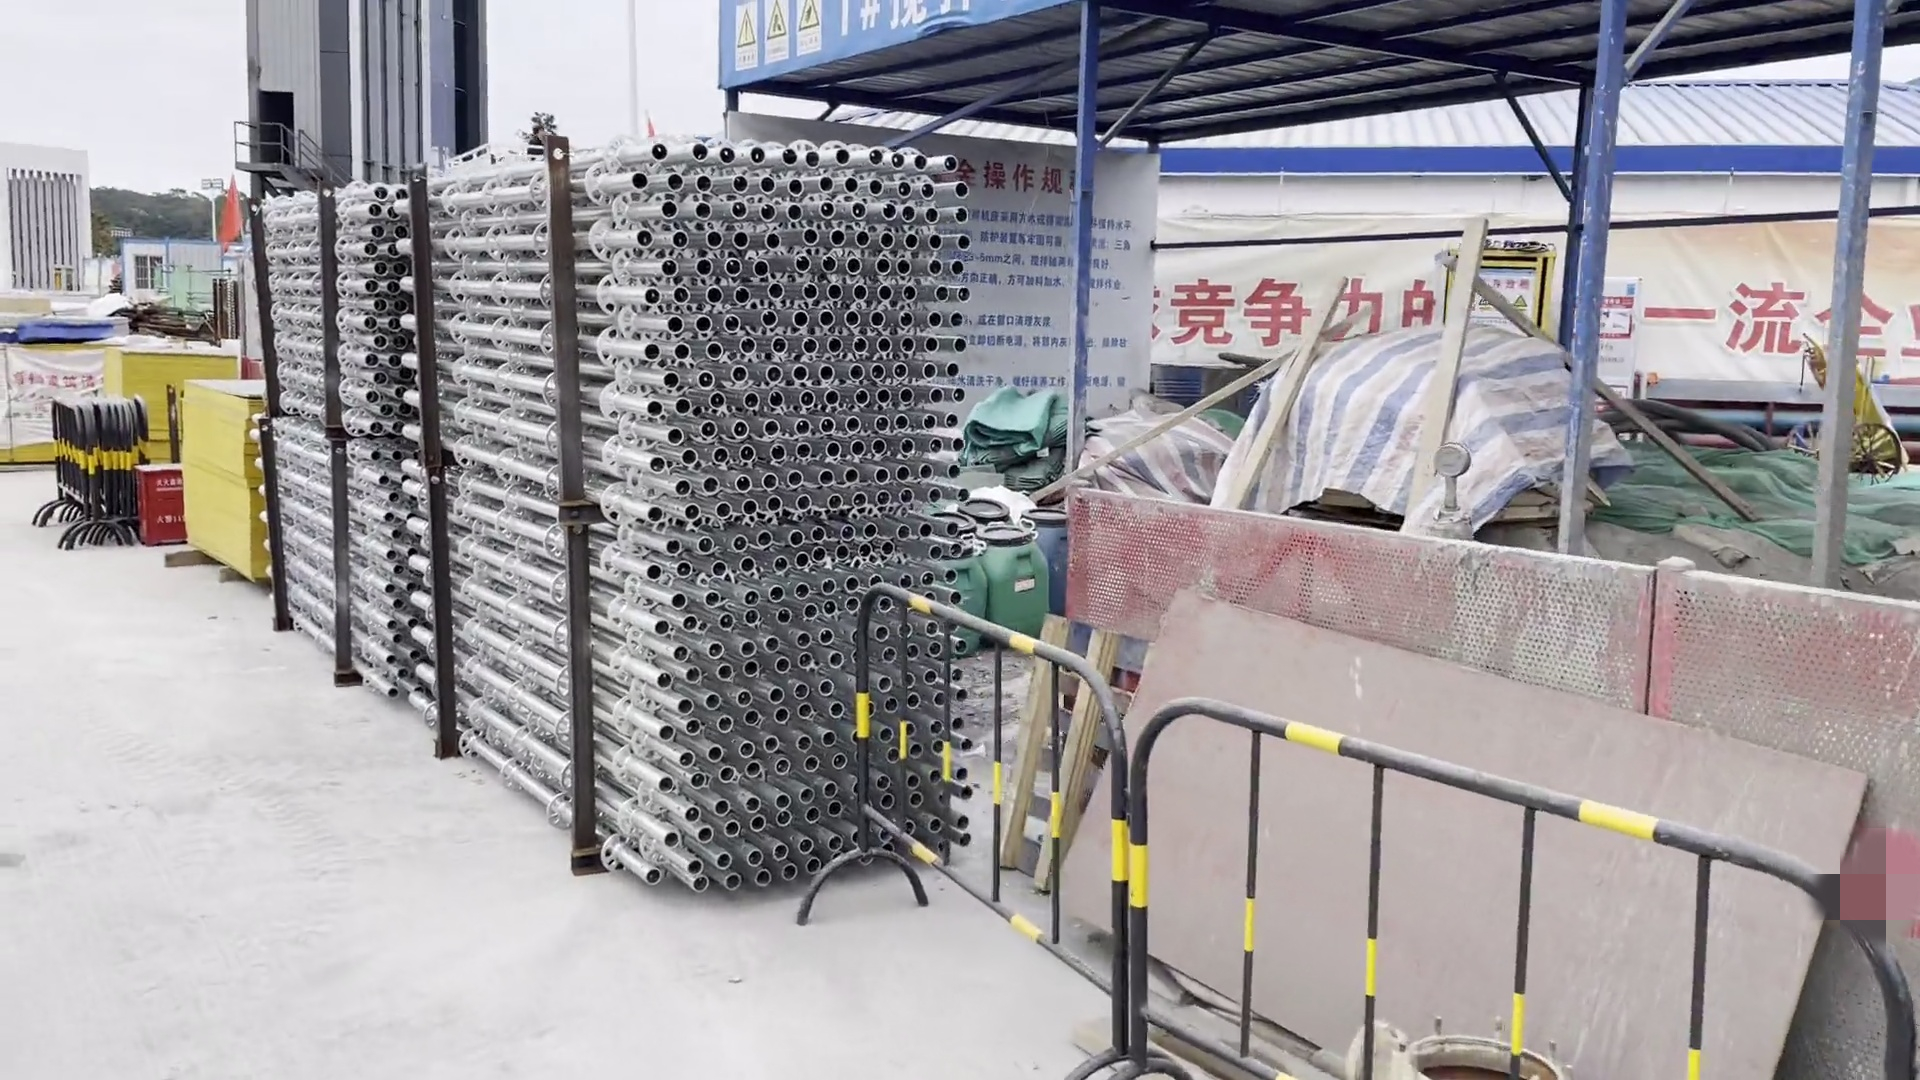board: (152, 368, 309, 585), (3, 305, 121, 475), (103, 334, 233, 443)
scaffold: (411, 127, 997, 918), (228, 175, 418, 680)
